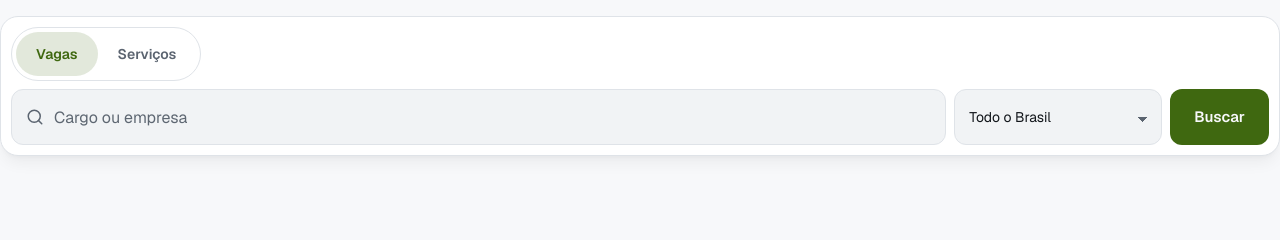
BuscaDoHero, estado e cidade › com estado, a cidade aparece em 'Todas as cidades'
Select "Mato Grosso" in the dropdown named "Estado" at (1058, 117), box [954, 89, 1162, 145]
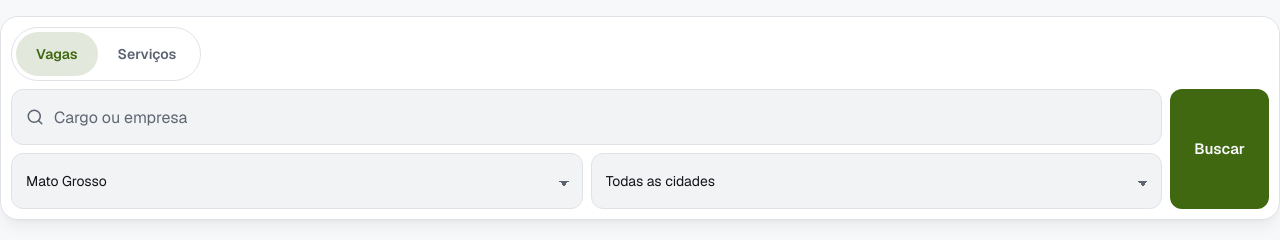
Check: the dropdown named "Cidade" shows "Todas as cidades", box [591, 153, 1162, 209]
